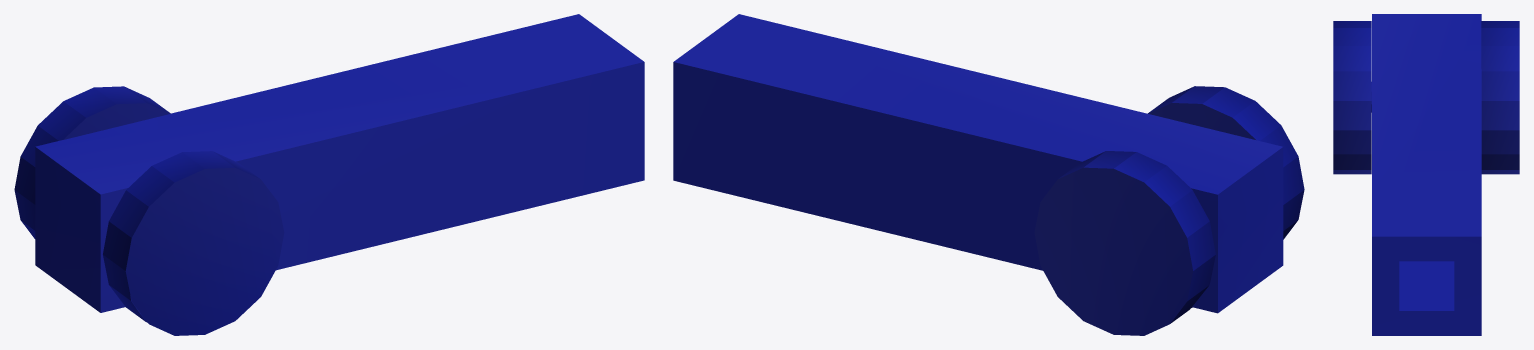
File: harpoon_blue_3.fbx
3 renders of one model, left to right at view 1: azimuth 30°, elevation 25°; view 2: azimuth 150°, elevation 25°; view 3: azimuth 270°, elevation 25°, orthographic. The views are drawn at different scales.
Parts seen in each view (by area): view 1: Cylinder.004; view 2: Cylinder.004; view 3: Cylinder.004.
Boxes of the visible parts, x1,y1,x2,y2 form: Cylinder.004: (14, 14, 644, 335); Cylinder.004: (673, 14, 1304, 335); Cylinder.004: (1333, 14, 1519, 335).
Bounding box in the file's own units: 96 × 28 × 34.01.
